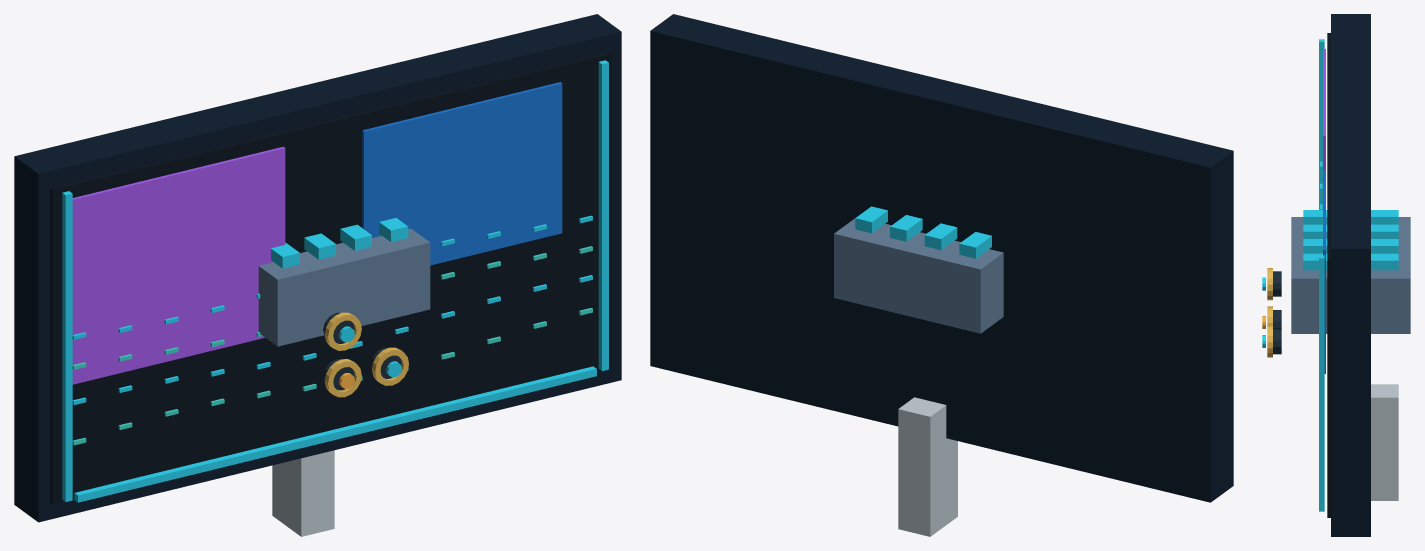
The model's file is 25_L83_MPPTPerturbObserveDisplay.fbx.
3 views of the same model, side by side, from view 1: azimuth 30°, elevation 25°; view 2: azimuth 150°, elevation 25°; view 3: azimuth 270°, elevation 25° (orthographic). The views are drawn at different scales.
Parts seen in each view (by area): view 1: MPPTPerturbObserveDisplay, MPPTPerturbObserveDisplay_Part_0056; view 2: MPPTPerturbObserveDisplay, MPPTPerturbObserveDisplay_Part_0056; view 3: MPPTPerturbObserveDisplay, MPPTPerturbObserveDisplay_Part_0056, MPPTPerturbObserveDisplay_Part_0060, MPPTPerturbObserveDisplay_Part_0057, MPPTPerturbObserveDisplay_Part_0059, MPPTPerturbObserveDisplay_Part_0058.
Part boxes in pixels (x1,y1,x2,y2): MPPTPerturbObserveDisplay: (14,14,621,536); MPPTPerturbObserveDisplay_Part_0056: (258,228,430,346); MPPTPerturbObserveDisplay: (650,14,1233,536); MPPTPerturbObserveDisplay_Part_0056: (834,218,1003,333); MPPTPerturbObserveDisplay: (1262,14,1398,536); MPPTPerturbObserveDisplay_Part_0056: (1291,217,1410,333); MPPTPerturbObserveDisplay_Part_0060: (1303,253,1398,270); MPPTPerturbObserveDisplay_Part_0057: (1303,210,1398,224); MPPTPerturbObserveDisplay_Part_0059: (1303,239,1398,253); MPPTPerturbObserveDisplay_Part_0058: (1303,224,1398,238).
Bounding box in the file's own units: 210 × 151 × 55.95.
